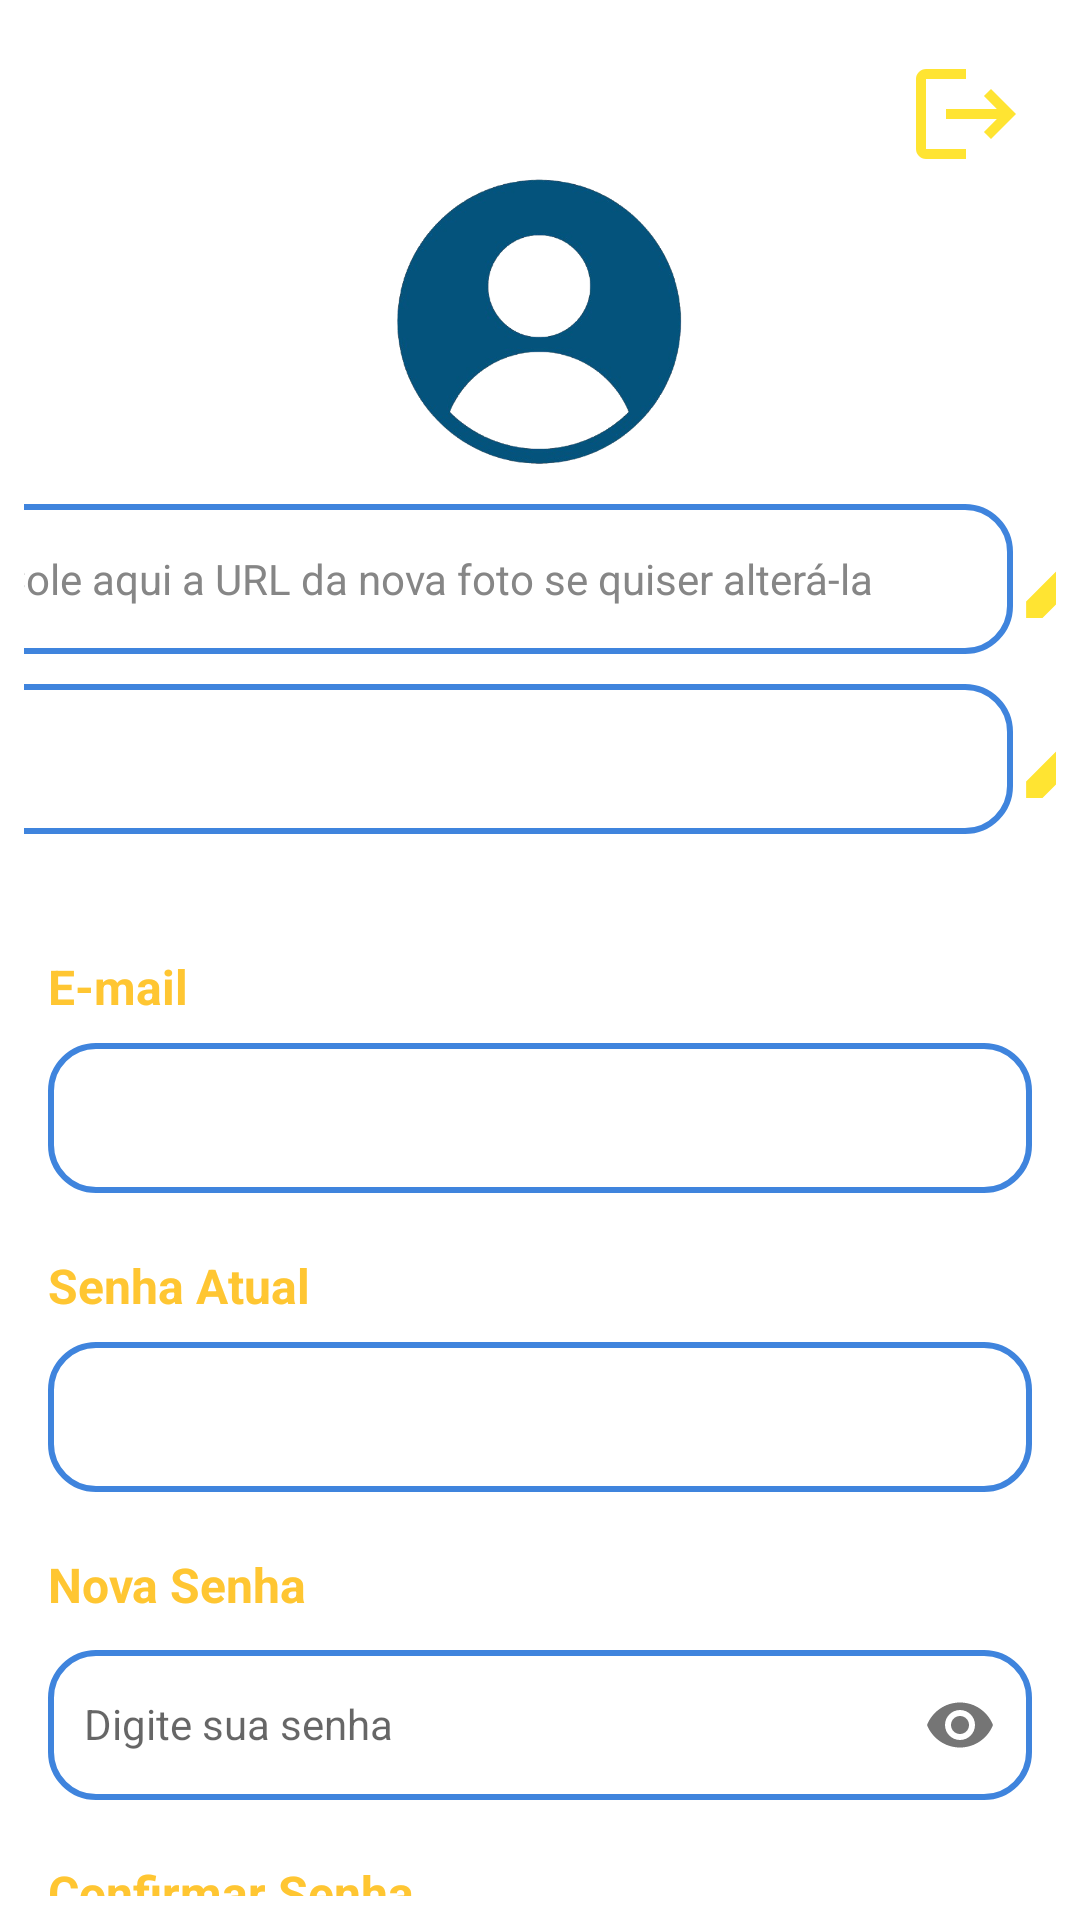

Icons on this 1080×1920 Android screen, each with the point to tap as (x,y):
perfil: (539,321)
